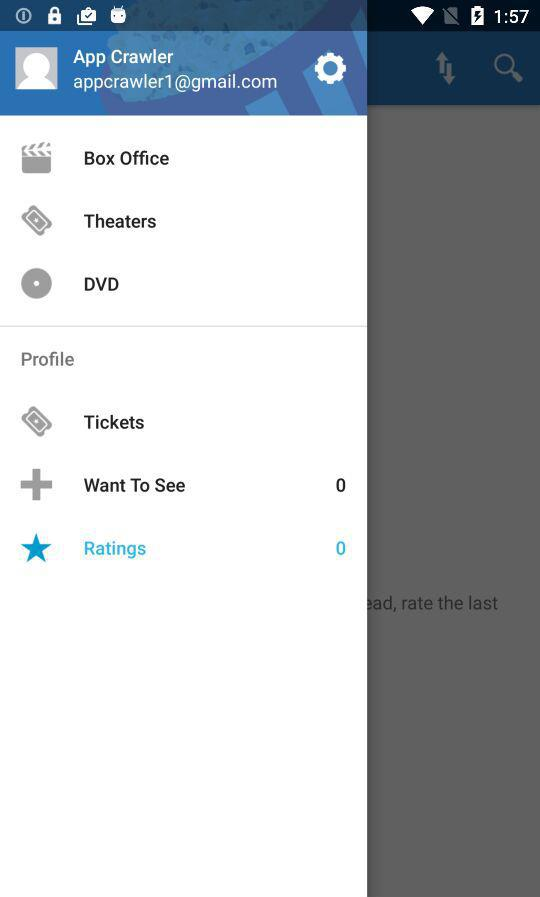Drawer: (1, 32, 367, 897)
Icon: (15, 48, 59, 91), (21, 468, 54, 501), (314, 53, 347, 86), (21, 205, 54, 237), (22, 406, 53, 438), (21, 533, 53, 564)
Image: (22, 142, 53, 175), (19, 274, 55, 292)
Text: (74, 74, 278, 93), (73, 49, 174, 69), (84, 478, 186, 493), (85, 150, 170, 167), (85, 540, 147, 560), (84, 214, 157, 230), (84, 414, 145, 431), (22, 351, 75, 367), (85, 276, 120, 292), (336, 477, 347, 493), (336, 541, 347, 556)
UpperTaskBar: (1, 1, 540, 33)
